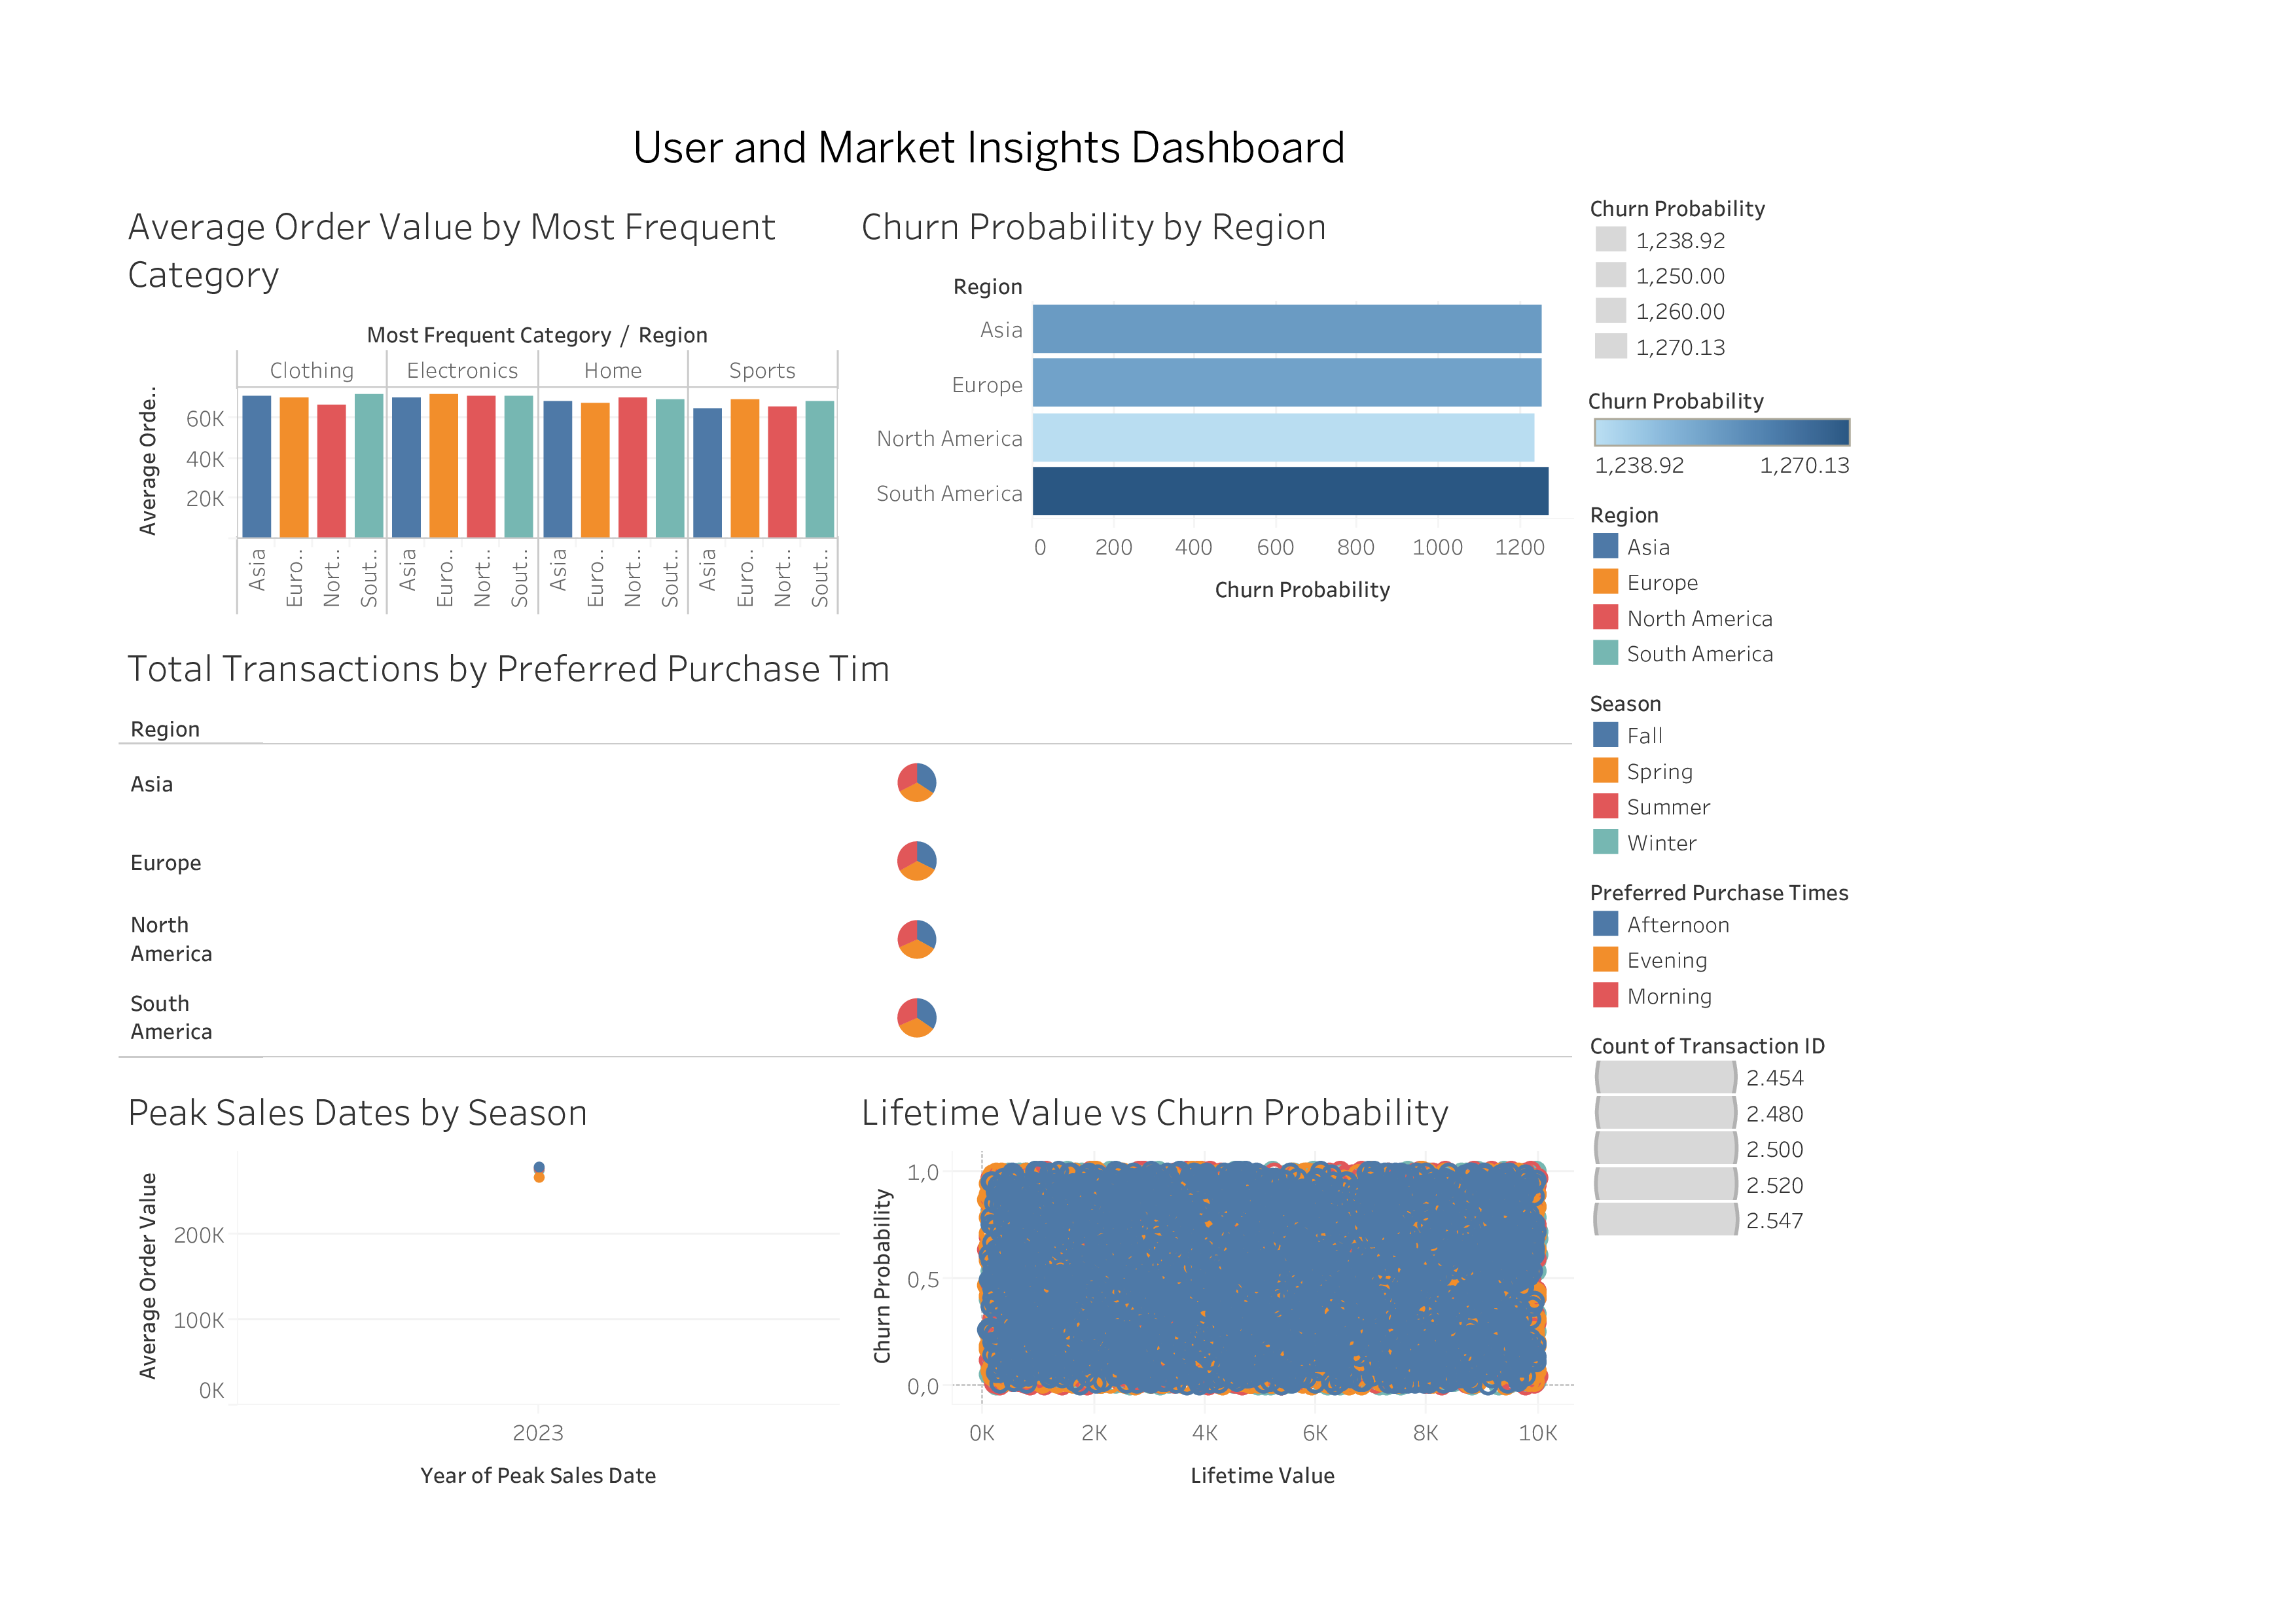

Layout of this report page (visuals, bound fields, positions):
{"tool":"tableau","page":{"name":"Dashboard 1","canvas":[1000,800],"ordinal":0},"visuals":[{"type":"title","box":[8,8,984,39]},{"type":"worksheet","title":"Average Order Value by Most Frequent Category","mark":"Automatic","rows":["Average_Order_Value"],"cols":["Most_Frequent_Category","Region"],"box":[8,47,412,248.3]},{"type":"worksheet","title":"Churn Probability by Region","mark":"Automatic","rows":["Region"],"cols":["Churn_Probability"],"box":[420,47,412,248.3]},{"type":"legend","title":"Churn Probability by Region","param":"[federated.1wnr6a21ny5sb21d8tojd1vl19b5].[sum:Churn_Probability:qk]","box":[832,47,160,106]},{"type":"legend","title":"Churn Probability by Region","param":"[federated.1wnr6a21ny5sb21d8tojd1vl19b5].[sum:Churn_Probability:qk]","box":[832,153,160,65]},{"type":"legend","title":"Average Order Value by Most Frequent Category","param":"[federated.1wnr6a21ny5sb21d8tojd1vl19b5].[none:Region:nk]","box":[832,218,160,106]},{"type":"worksheet","title":"Total Transactions by Preferred Purchase Tim","mark":"Pie","rows":["Region"],"box":[8,295.3,824,248.3]},{"type":"legend","title":"Peak Sales Dates by Season","param":"[federated.1wnr6a21ny5sb21d8tojd1vl19b5].[none:Season:nk]","box":[832,324,160,106]},{"type":"legend","title":"Total Transactions by Preferred Purchase Tim","param":"[federated.1wnr6a21ny5sb21d8tojd1vl19b5].[none:Preferred_Purchase_Times:nk]","box":[832,430,160,86]},{"type":"legend","title":"Total Transactions by Preferred Purchase Tim","param":"[federated.1wnr6a21ny5sb21d8tojd1vl19b5].[cnt:Transaction_ID:qk]","box":[832,516,160,126]},{"type":"worksheet","title":"Peak Sales Dates by Season","mark":"Automatic","rows":["Average_Order_Value"],"cols":["Peak_Sales_Date"],"box":[8,543.7,412,248.3]},{"type":"worksheet","title":"Lifetime Value vs Churn Probability","mark":"Automatic","rows":["Churn_Probability"],"cols":["Lifetime_Value"],"box":[420,543.7,412,248.3]}]}

Visuals, with their boxes on the page's 1000x800 design canvas (x1, y1, x2, y2). These are canvas units, not pixel positions in the 2296x1623 screenshot, which may show the page scaled, cropped or inside an application window:
title: BBox(8, 8, 992, 47)
"Average Order Value by Most Frequent Category" worksheet: BBox(8, 47, 420, 295)
"Churn Probability by Region" worksheet: BBox(420, 47, 832, 295)
"Churn Probability by Region" legend: BBox(832, 47, 992, 153)
"Churn Probability by Region" legend: BBox(832, 153, 992, 218)
"Average Order Value by Most Frequent Category" legend: BBox(832, 218, 992, 324)
"Total Transactions by Preferred Purchase Tim" worksheet (Pie marks): BBox(8, 295, 832, 544)
"Peak Sales Dates by Season" legend: BBox(832, 324, 992, 430)
"Total Transactions by Preferred Purchase Tim" legend: BBox(832, 430, 992, 516)
"Total Transactions by Preferred Purchase Tim" legend: BBox(832, 516, 992, 642)
"Peak Sales Dates by Season" worksheet: BBox(8, 544, 420, 792)
"Lifetime Value vs Churn Probability" worksheet: BBox(420, 544, 832, 792)
